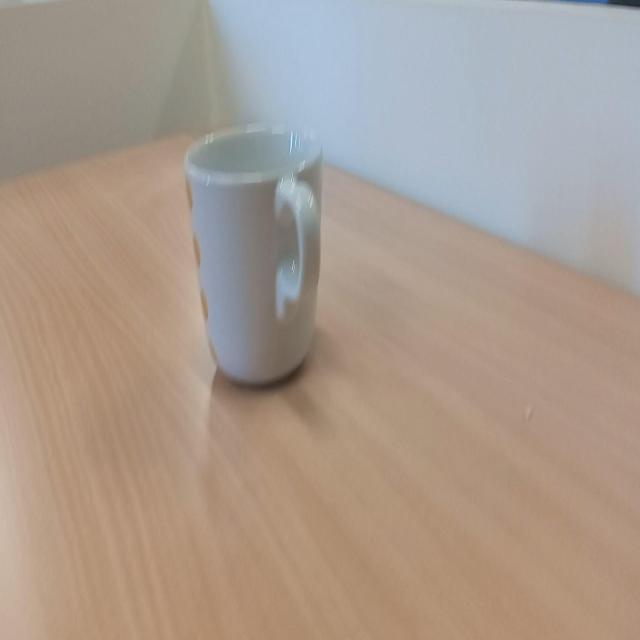cup: (181, 123, 332, 388)
